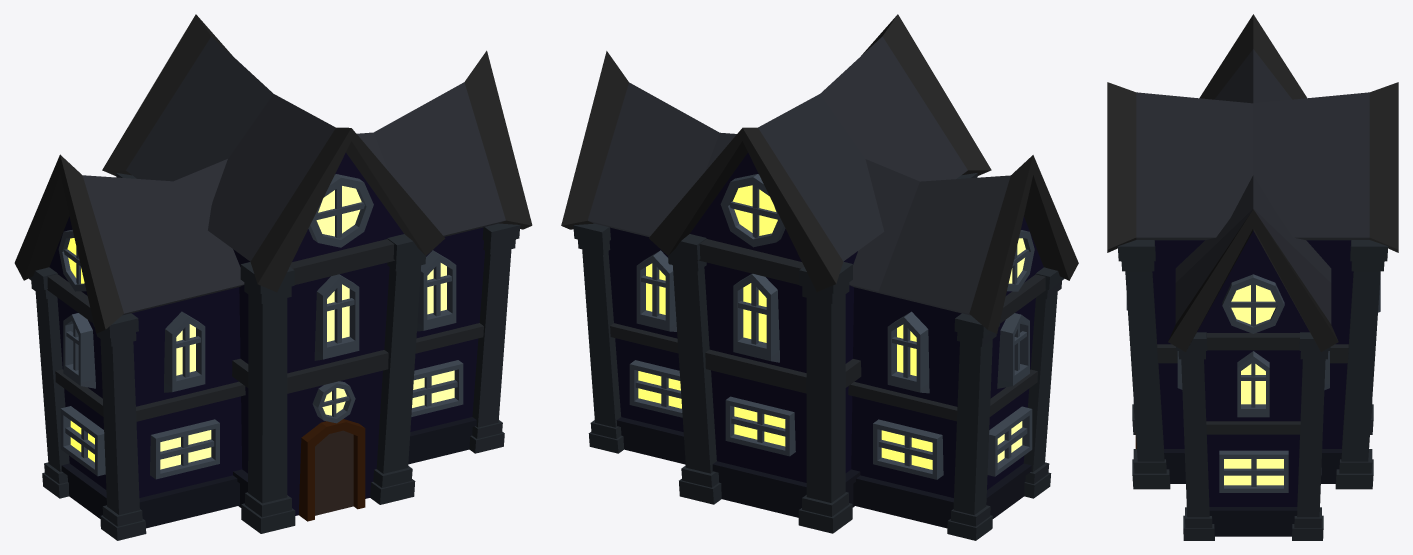
File: Casa5.fbx
The picture shows the model from 3 angles, left to right: view 1: azimuth 30°, elevation 25°; view 2: azimuth 150°, elevation 25°; view 3: azimuth 270°, elevation 25°; orthographic projection. The views are drawn at different scales.
Visible parts, largest first — view 1: Teto05, Pilar05, Parede05, JanelaMolde05, Divisao05, Base05, JanelaFundo05, Porta05, PortaContorno05; view 2: Teto05, Pilar05, Parede05, JanelaMolde05, Base05, Divisao05, JanelaFundo05; view 3: Teto05, Pilar05, Parede05, JanelaMolde05, Base05, Divisao05, JanelaFundo05.
Part boxes in pixels (bbox=[...]): Teto05: bbox=[14, 14, 532, 333]; Pilar05: bbox=[29, 173, 520, 540]; Parede05: bbox=[49, 152, 484, 515]; JanelaMolde05: bbox=[58, 174, 463, 479]; Divisao05: bbox=[47, 239, 483, 421]; Base05: bbox=[61, 417, 476, 528]; JanelaFundo05: bbox=[67, 186, 454, 469]; Porta05: bbox=[315, 430, 353, 515]; PortaContorno05: bbox=[298, 419, 365, 521]; Teto05: bbox=[561, 14, 1078, 333]; Pilar05: bbox=[573, 173, 1064, 540]; Parede05: bbox=[608, 152, 1043, 497]; JanelaMolde05: bbox=[629, 174, 1034, 479]; Base05: bbox=[616, 417, 1031, 528]; Divisao05: bbox=[610, 239, 1045, 421]; JanelaFundo05: bbox=[638, 185, 1025, 469]; Teto05: bbox=[1107, 14, 1398, 351]; Pilar05: bbox=[1117, 240, 1388, 540]; Parede05: bbox=[1152, 231, 1353, 506]; JanelaMolde05: bbox=[1126, 274, 1380, 492]; Base05: bbox=[1164, 449, 1341, 536]; Divisao05: bbox=[1157, 333, 1348, 434]; JanelaFundo05: bbox=[1224, 285, 1283, 485].
Size of the model in its own units: 1455 by 1295 by 918.
